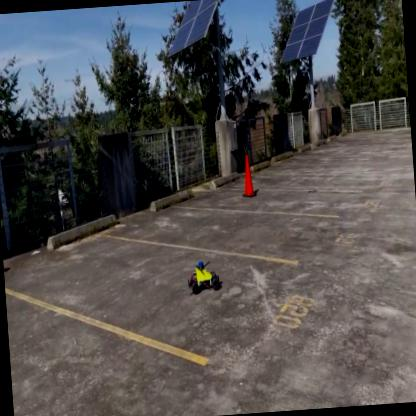cone: (238, 153, 259, 200)
mushr_car: (184, 256, 225, 302)
